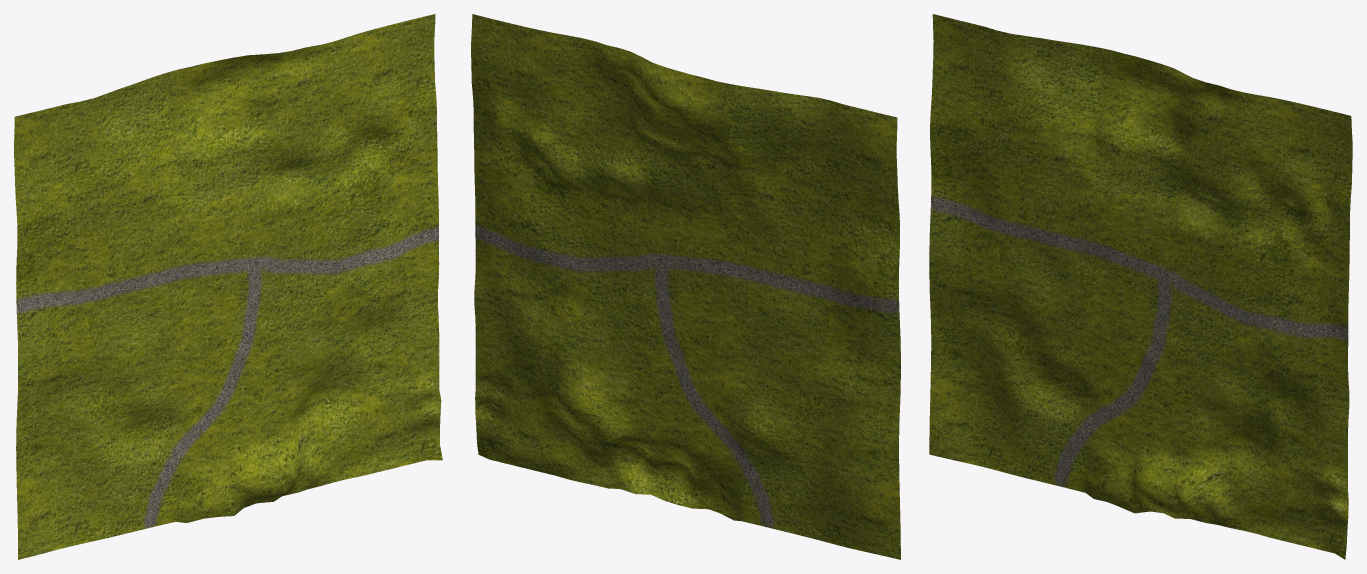
File: terrain.fbx
3 views of the same model, side by side, from view 1: azimuth 30°, elevation 25°; view 2: azimuth 150°, elevation 25°; view 3: azimuth 330°, elevation 25° (orthographic).
Parts seen in each view (by area): view 1: Plane; view 2: Plane; view 3: Plane.
Boxes of the visible parts, x1,y1,x2,y2 form: Plane: (14, 14, 442, 559); Plane: (471, 14, 900, 559); Plane: (929, 14, 1352, 559).
Bounding box in the file's own units: 5773 × 5809 × 642.
Materials: 1 (1 with a texture image).
